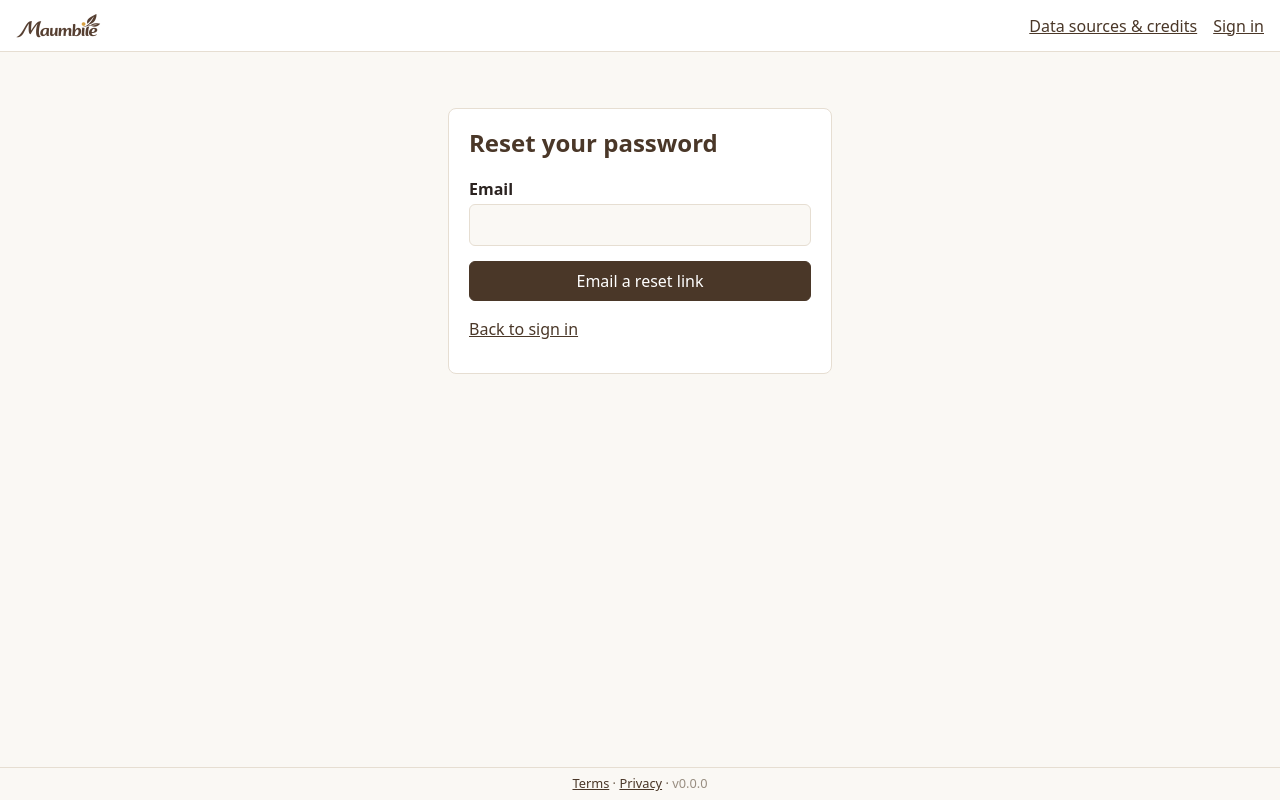
submits an email and displays the generic acknowledgement
Type "person@example.org" into the field labelled "Email" at (640,225), box x1=469 y1=204 x2=811 y2=246
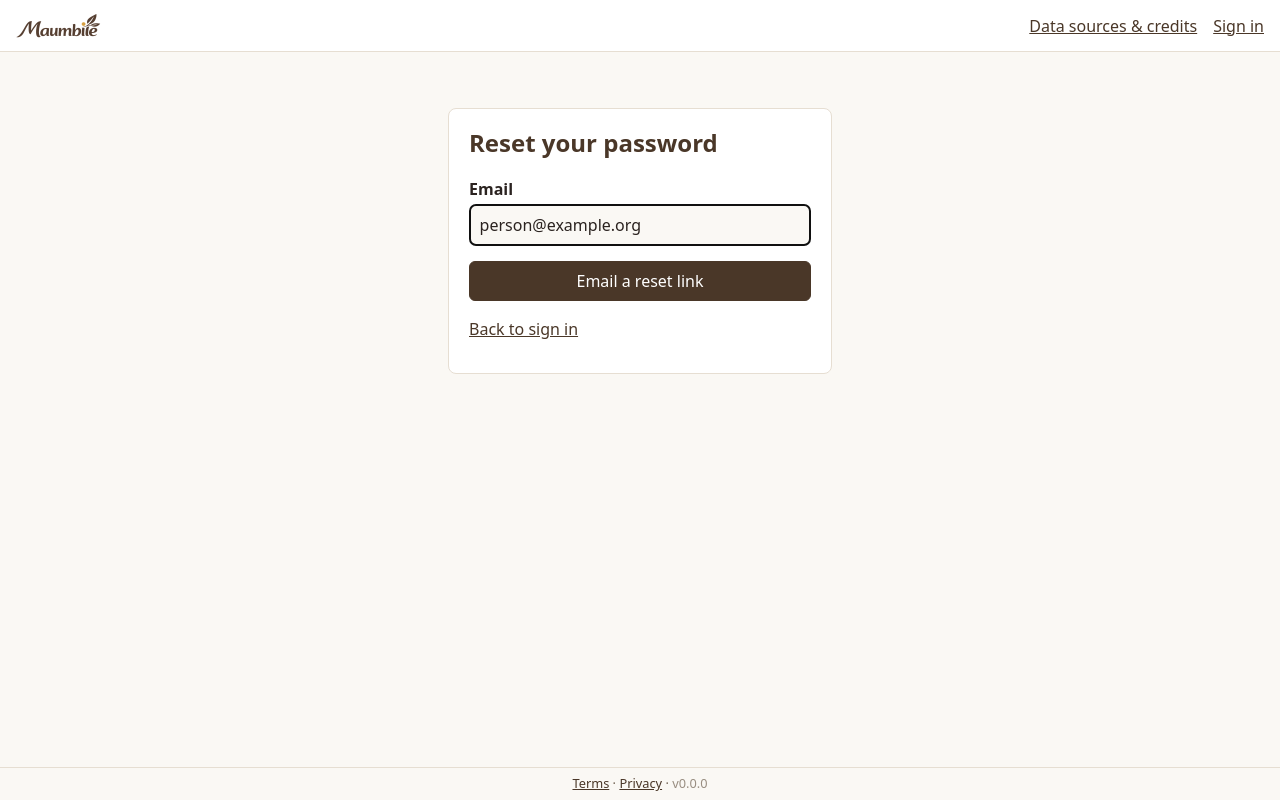
Click the button "Email a reset link" at (640,281), box x1=469 y1=261 x2=811 y2=301
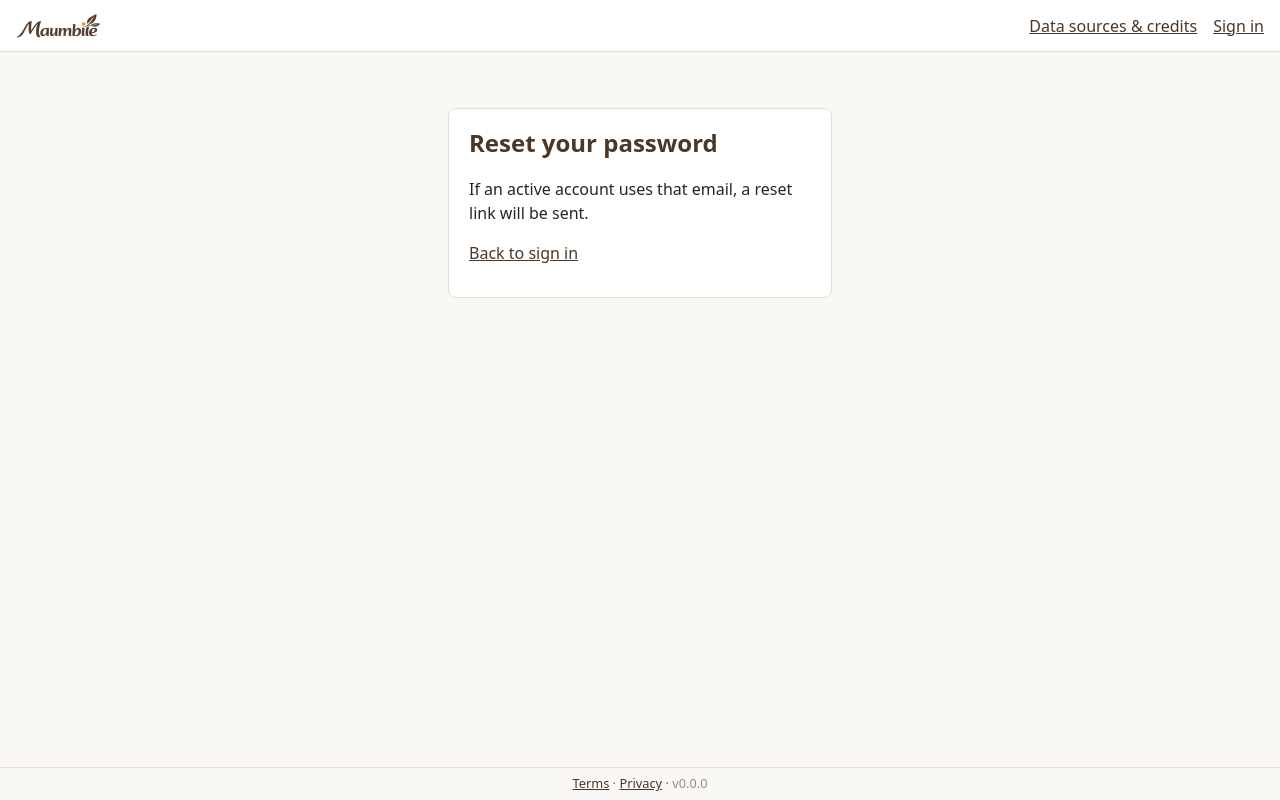
Expected: the text "If an active account uses that email, a reset link will be sent." is shown, x1=469 y1=177 x2=811 y2=225
